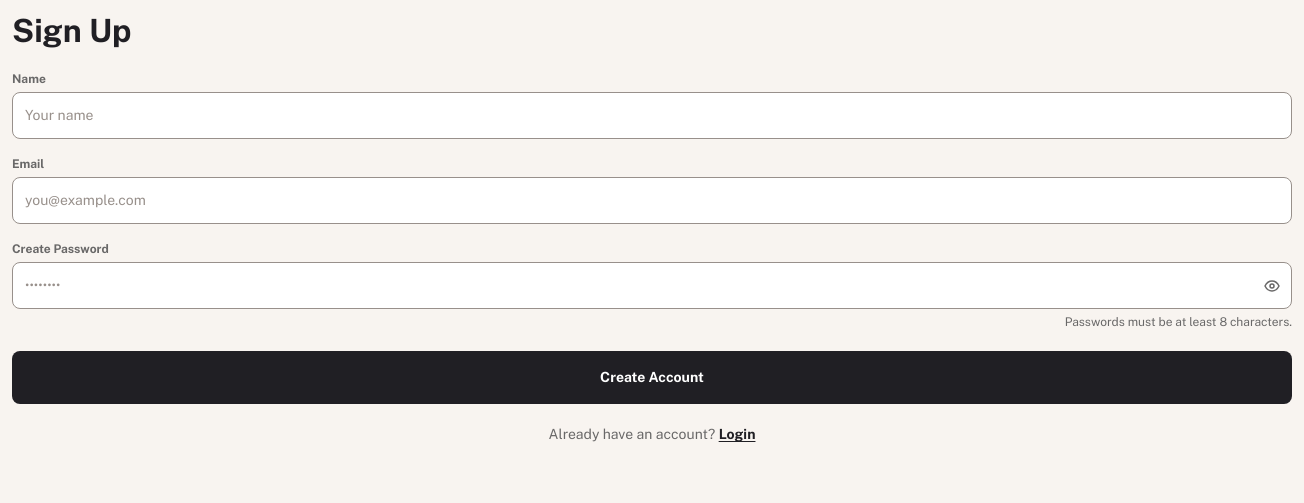
it: SignUpForm › accessibility › validation errors use role alert
What coordinates should you click on to do the following:
click the button "Create Account"
I would click on:
 (652, 378)
Its box is [12,351,1292,404].
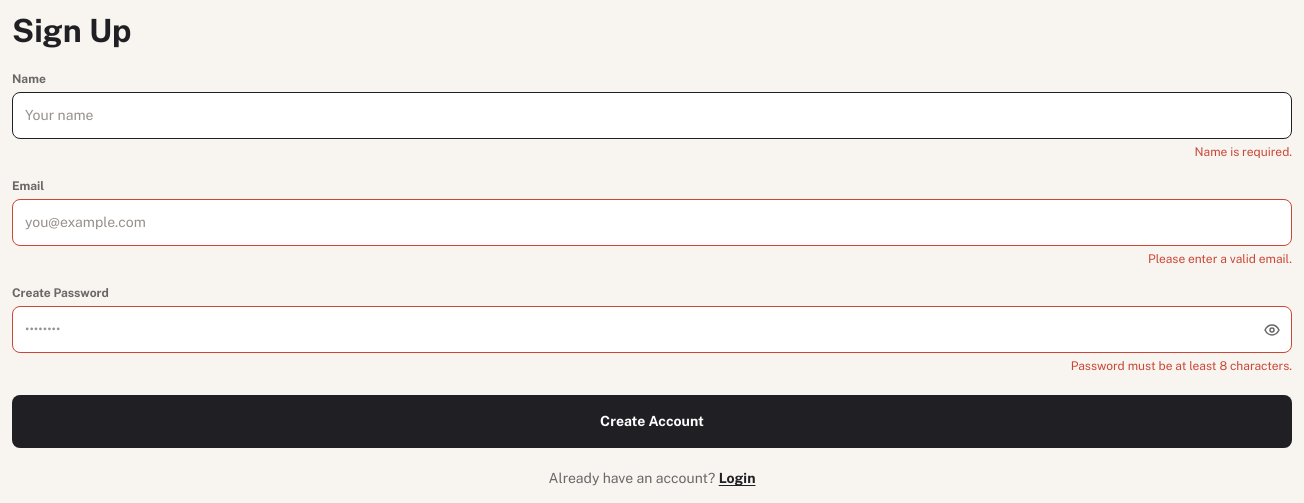
Check: the message "Name is required." is shown, box [1194,145,1292,159]
